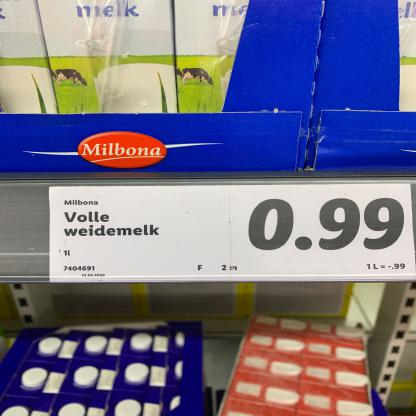prtg: (49, 185, 415, 285)
